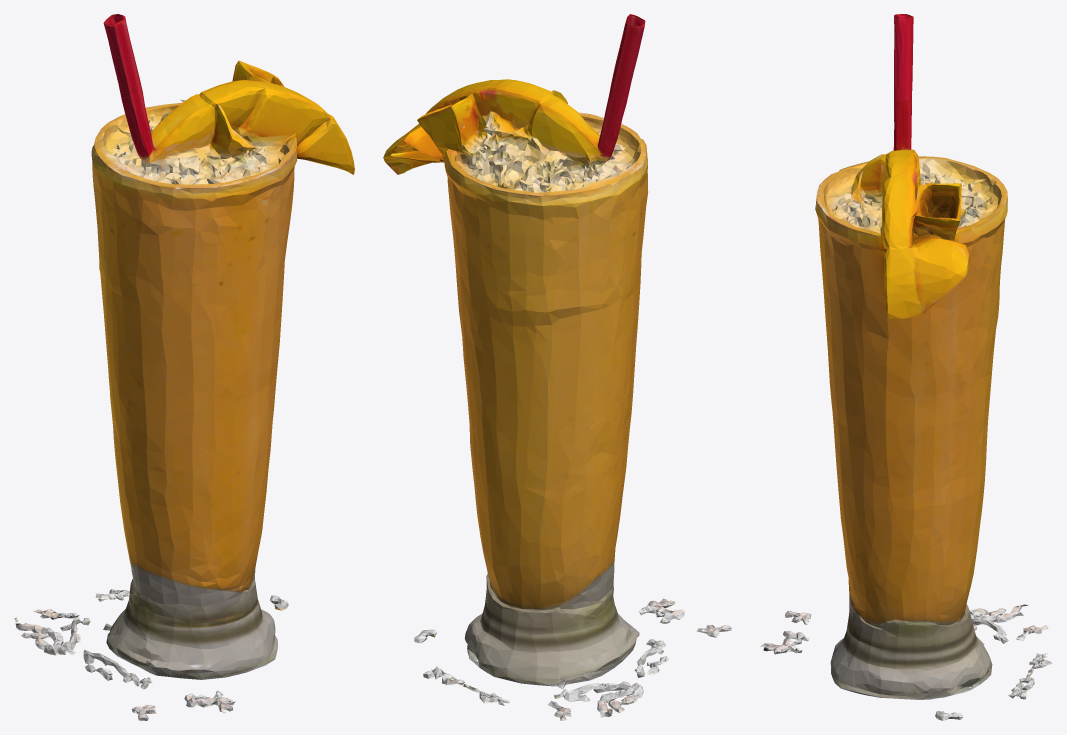
The model's file is smoothie mango.fbx.
The picture shows the model from 3 angles, left to right: view 1: azimuth 30°, elevation 25°; view 2: azimuth 150°, elevation 25°; view 3: azimuth 270°, elevation 25°; orthographic projection. The views are drawn at different scales.
Parts seen in each view (by area): view 1: temp; view 2: temp; view 3: temp.
Part boxes in pixels (x1,y1,x2,y2): temp: [14, 14, 354, 720]; temp: [383, 14, 731, 720]; temp: [760, 14, 1052, 720].
Bounding box in the file's own units: 87.23 × 199 × 85.26.
